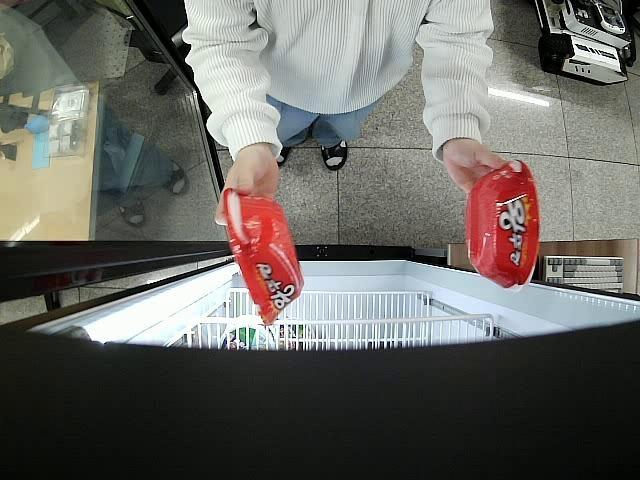10_wangTtukkeong: (223, 187, 305, 327), (464, 157, 542, 295)
